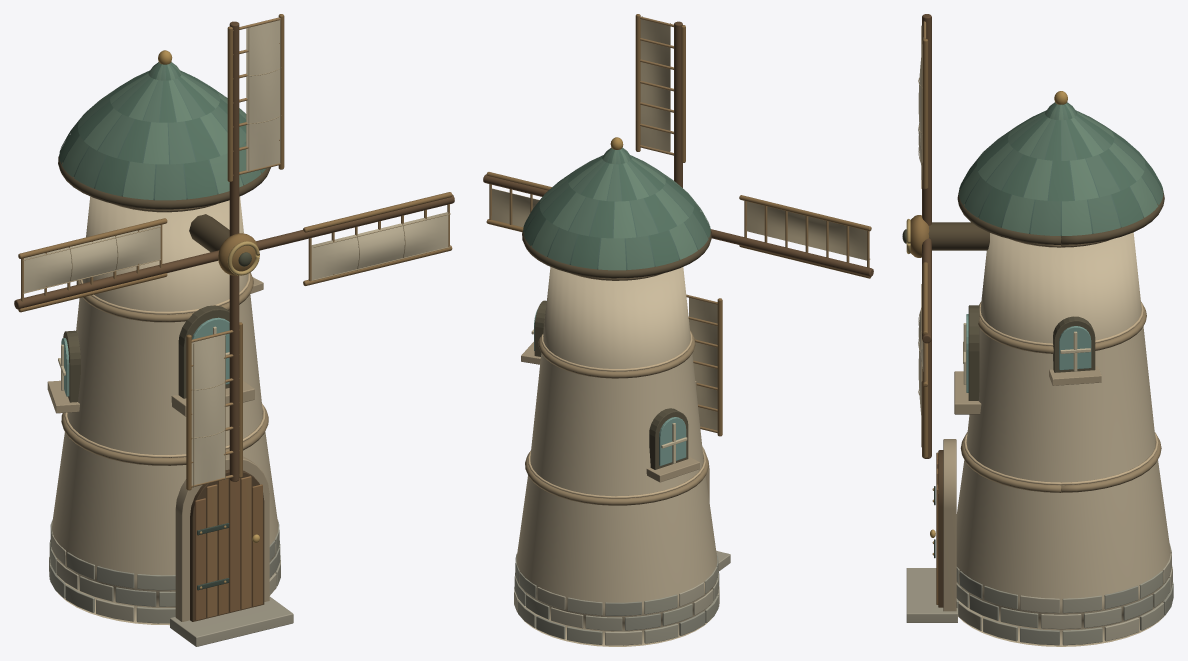
The model's file is windmill.glb.
3 views of the same model, side by side, from view 1: azimuth 30°, elevation 25°; view 2: azimuth 150°, elevation 25°; view 3: azimuth 270°, elevation 25° (orthographic). The views are drawn at different scales.
Visible parts, largest first — view 1: windmill_World_Mesh, Shingled mill cap_Mesh, Linen sail.001_Mesh, Linen sail.002_Mesh, Linen sail_Mesh, Linen sail.003_Mesh, Inset mill window_Mesh, Inset mill window.001_Mesh, windmill_Sails_Mesh; view 2: windmill_World_Mesh, Shingled mill cap_Mesh, Linen sail_Mesh, Linen sail.001_Mesh, Linen sail.002_Mesh, Inset mill window.001_Mesh, Linen sail.003_Mesh, Inset mill window.002_Mesh; view 3: windmill_World_Mesh, Shingled mill cap_Mesh, Inset mill window.002_Mesh, Linen sail_Mesh, Inset mill window_Mesh, Linen sail.003_Mesh, Linen sail.002_Mesh, windmill_Sails_Mesh.
Boxes of the visible parts, x1=… form: windmill_World_Mesh: x1=49, y1=50, x2=293, y2=646; Shingled mill cap_Mesh: x1=59, y1=62, x2=266, y2=200; Linen sail.001_Mesh: x1=14, y1=218, x2=218, y2=312; Linen sail.002_Mesh: x1=186, y1=275, x2=242, y2=490; Linen sail_Mesh: x1=227, y1=14, x2=284, y2=236; Linen sail.003_Mesh: x1=256, y1=192, x2=454, y2=285; Inset mill window_Mesh: x1=171, y1=305, x2=254, y2=416; Inset mill window.001_Mesh: x1=47, y1=330, x2=80, y2=413; windmill_Sails_Mesh: x1=218, y1=233, x2=259, y2=275; windmill_World_Mesh: x1=514, y1=137, x2=730, y2=646; Shingled mill cap_Mesh: x1=523, y1=147, x2=710, y2=270; Linen sail_Mesh: x1=635, y1=14, x2=685, y2=187; Linen sail.001_Mesh: x1=710, y1=195, x2=873, y2=278; Linen sail.002_Mesh: x1=686, y1=294, x2=722, y2=436; Inset mill window.001_Mesh: x1=646, y1=408, x2=699, y2=482; Linen sail.003_Mesh: x1=483, y1=172, x2=551, y2=232; Inset mill window.002_Mesh: x1=521, y1=300, x2=546, y2=364; windmill_World_Mesh: x1=906, y1=91, x2=1173, y2=646; Shingled mill cap_Mesh: x1=959, y1=102, x2=1163, y2=237; Inset mill window.002_Mesh: x1=1049, y1=316, x2=1101, y2=385; Linen sail_Mesh: x1=918, y1=14, x2=931, y2=225; Inset mill window_Mesh: x1=954, y1=305, x2=981, y2=414; Linen sail.003_Mesh: x1=918, y1=238, x2=931, y2=386; Linen sail.002_Mesh: x1=918, y1=339, x2=931, y2=458; windmill_Sails_Mesh: x1=902, y1=215, x2=929, y2=257.
Size of the model in its own units: 4.07 by 5.38 by 2.26.
